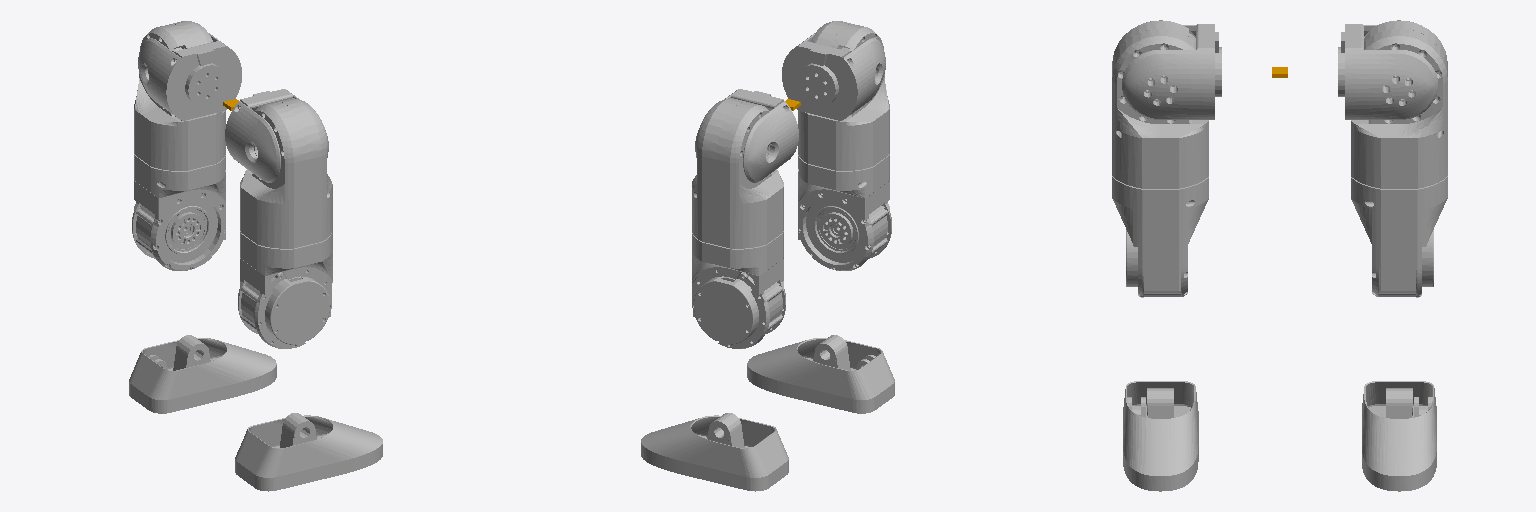
URDF robot description (aegged_dm_description_no_arm):
<?xml version="1.0" encoding="utf-8"?>
<!-- This URDF was automatically created by SolidWorks to URDF Exporter! Originally created by Stephen Brawner (brawner@gmail.com) 
     Commit Version: 1.6.0-4-g7f85cfe  Build Version: 1.6.7995.38578
     For more information, please see http://wiki.ros.org/sw_urdf_exporter -->
<robot
  name="aegged_dm_description_no_arm">
  <!--
    Estimated joint limits (rad) for a 10-DoF biped around the CAD zero pose.
    Not measured on hardware. effort/velocity follow RobStride peak torque / no-load speed.
      1 hip pitch RS06: -60..90 deg, 36 N·m, 50.27 rad/s
      2 hip roll  RS02: -40..40 deg, 17 N·m, 42.94 rad/s
      3 thigh yaw RS02: -40..40 deg, 17 N·m, 42.94 rad/s
      4 knee      RS06: -10..130 deg, 36 N·m, 50.27 rad/s
      5 ankle     RS00: -50..50 deg, 14 N·m, 33.0 rad/s
  -->
  <!--
    Estimated joint limits (CAD zero = assembly pose). Not measured on hardware.
    1 hip pitch: -60..90 deg   RS06  36 N·m / 50.27 rad/s
    2 hip roll:  -40..40 deg   RS02  17 N·m / 42.94 rad/s
    3 thigh yaw: -40..40 deg   RS02  17 N·m / 42.94 rad/s
    4 knee:      -10..130 deg  RS06  36 N·m / 50.27 rad/s
    5 ankle:     -50..50 deg   RS00  14 N·m / 33.00 rad/s
  -->
  
    <gazebo>
    <plugin name="gazebo_ros_control" filename="libdm_bipedal_hw_sim.so">
      <robotNamespace>/</robotNamespace>
      <robotParam>legged_robot_description</robotParam>
      <robotSimType>legged_gazebo/LeggedHWSim</robotSimType>
    </plugin>
  </gazebo>

  <gazebo>
    <plugin filename="libgazebo_ros_p3d.so" name="p3d_base_controller">
      <alwaysOn>true</alwaysOn>
      <updateRate>500.0</updateRate>
      <bodyName>base_link</bodyName>
      <topicName>ground_truth/state</topicName>
      <gaussianNoise>0</gaussianNoise>
      <frameName>world</frameName>
      <xyzOffsets>0 0 0</xyzOffsets>
      <rpyOffsets>0 0 0</rpyOffsets>
    </plugin>
  </gazebo>
  
  
     <joint name="imu_joint" type="fixed">
    <origin rpy="0. 0. 0." xyz="0. 0. 0"/>
    <parent link="base_link"/>
    <child link="imu_link"/>
  </joint>
  <!-- Imu link -->
  <link name="imu_link">
    <inertial>
      <mass value="0.01"/>
      <origin rpy="0 0 0" xyz="0 0 0"/>
      <inertia ixx="0.000001" ixy="0" ixz="0" iyy="0.000001" iyz="0" izz="0.000001"/>
    </inertial>
    <visual>
      <origin rpy="0 0 0" xyz="0 0 0"/>
      <geometry>
        <box size="0.015 0.015 0.004"/>
      </geometry>
    </visual>
    <material name="orange">
      <color rgba="255 108 10 255"/>
    </material>
  </link>
  <gazebo reference="imu_joint">
    <disableFixedJointLumping>true</disableFixedJointLumping>
  </gazebo>
  
  
  <link
    name="base_link">
    <inertial>
      <origin
        xyz="0.000316757833824185 -0.000319826146635846 0.0981033967549462"
        rpy="0 0 0" />
      <mass
        value="7.36183674907851" />
      <inertia
        ixx="0.0157883107915735"
        ixy="-2.98083827942345E-06"
        ixz="1.14045338887804E-05"
        iyy="0.0126788373012413"
        iyz="-9.80285406156158E-07"
        izz="0.0100409818467851" />
    </inertial>
    <visual>
      <origin
        xyz="0 0 0"
        rpy="0 0 0" />
      <geometry>
        <mesh
          filename="meshes/base_link.STL" />
      </geometry>
      <material
        name="">
        <color
          rgba="0.752941176470588 0.752941176470588 0.752941176470588 1" />
      </material>
    </visual>
    <collision>
      <origin
        xyz="0 0 0"
        rpy="0 0 0" />
      <geometry>
        <mesh
          filename="meshes/base_link.STL" />
      </geometry>
    </collision>
  </link>
  <link
    name="leg_r1_Link">
    <inertial>
      <origin
        xyz="0.00237630319013366 0.00124954654221387 0.0291449496120327"
        rpy="0 0 0" />
      <mass
        value="0.123238922208533" />
      <inertia
        ixx="0.000105110680384139"
        ixy="2.77696457337969E-06"
        ixz="-2.12279851365142E-05"
        iyy="9.41352116072342E-05"
        iyz="1.72700632635425E-06"
        izz="7.35012664019771E-05" />
    </inertial>
    <visual>
      <origin
        xyz="0 0 0"
        rpy="0 0 0" />
      <geometry>
        <mesh
          filename="meshes/leg_r1_Link.STL" />
      </geometry>
      <material
        name="">
        <color
          rgba="0.752941176470588 0.752941176470588 0.752941176470588 1" />
      </material>
    </visual>
    <collision>
      <origin
        xyz="0 0 0"
        rpy="0 0 0" />
      <geometry>
        <mesh
          filename="meshes/leg_r1_Link.STL" />
      </geometry>
    </collision>
  </link>
  <joint
    name="leg_r1_joint"
    type="revolute">
    <origin
      xyz="0 -0.0545 0"
      rpy="1.5708 0 0" />
    <parent
      link="base_link" />
    <child
      link="leg_r1_Link" />
    <axis
      xyz="0 0 1" />
    <limit
      lower="-1.0472"
      upper="1.5708"
      effort="36"
      velocity="50.27" />
  </joint>
  <link
    name="leg_r2_Link">
    <inertial>
      <origin
        xyz="-0.000889379627012674 -0.0354222617148699 0.000564352182623655"
        rpy="0 0 0" />
      <mass
        value="0.968265313505045" />
      <inertia
        ixx="0.000834772586404436"
        ixy="1.03373996480554E-05"
        ixz="5.32572866576297E-06"
        iyy="0.000812444617802051"
        iyz="-1.52135450619641E-05"
        izz="0.00105640467247241" />
    </inertial>
    <visual>
      <origin
        xyz="0 0 0"
        rpy="0 0 0" />
      <geometry>
        <mesh
          filename="meshes/leg_r2_Link.STL" />
      </geometry>
      <material
        name="">
        <color
          rgba="0.752941176470588 0.752941176470588 0.752941176470588 1" />
      </material>
    </visual>
    <collision>
      <origin
        xyz="0 0 0"
        rpy="0 0 0" />
      <geometry>
        <mesh
          filename="meshes/leg_r2_Link.STL" />
      </geometry>
    </collision>
  </link>
  <joint
    name="leg_r2_joint"
    type="revolute">
    <origin
      xyz="0 0 0.0525"
      rpy="0 1.5708 0" />
    <parent
      link="leg_r1_Link" />
    <child
      link="leg_r2_Link" />
    <axis
      xyz="0 0 1" />
    <limit
      lower="-0.6981"
      upper="0.6981"
      effort="17"
      velocity="42.94" />
  </joint>
  <link
    name="leg_r3_Link">
    <inertial>
      <origin
        xyz="-0.000923971606770746 0.00137453913075919 0.0706011502942461"
        rpy="0 0 0" />
      <mass
        value="0.739749607173614" />
      <inertia
        ixx="0.000601475689998463"
        ixy="1.97426296938061E-06"
        ixz="-1.13681692217029E-05"
        iyy="0.000830640772869465"
        iyz="9.55163300554654E-06"
        izz="0.000595970916419633" />
    </inertial>
    <visual>
      <origin
        xyz="0 0 0"
        rpy="0 0 0" />
      <geometry>
        <mesh
          filename="meshes/leg_r3_Link.STL" />
      </geometry>
      <material
        name="">
        <color
          rgba="0.752941176470588 0.752941176470588 0.752941176470588 1" />
      </material>
    </visual>
    <collision>
      <origin
        xyz="0 0 0"
        rpy="0 0 0" />
      <geometry>
        <mesh
          filename="meshes/leg_r3_Link.STL" />
      </geometry>
    </collision>
  </link>
  <joint
    name="leg_r3_joint"
    type="revolute">
    <origin
      xyz="0 -0.095 -0.00025"
      rpy="1.5708 -1.5708 0" />
    <parent
      link="leg_r2_Link" />
    <child
      link="leg_r3_Link" />
    <axis
      xyz="0 0 -1" />
    <limit
      lower="-0.6981"
      upper="0.6981"
      effort="17"
      velocity="42.94" />
  </joint>
  <link
    name="leg_r4_Link">
    <inertial>
      <origin
        xyz="0.0107535919496253 -0.0732310518774997 0.00447385756874623"
        rpy="0 0 0" />
      <mass
        value="0.625401970935785" />
      <inertia
        ixx="0.000964865976611379"
        ixy="0.000102514056663673"
        ixz="-3.88394763637417E-06"
        iyy="0.000392627635809103"
        iyz="-9.97200294292721E-06"
        izz="0.00105101828726014" />
    </inertial>
    <visual>
      <origin
        xyz="0 0 0"
        rpy="0 0 0" />
      <geometry>
        <mesh
          filename="meshes/leg_r4_Link.STL" />
      </geometry>
      <material
        name="">
        <color
          rgba="0.752941176470588 0.752941176470588 0.752941176470588 1" />
      </material>
    </visual>
    <collision>
      <origin
        xyz="0 0 0"
        rpy="0 0 0" />
      <geometry>
        <mesh
          filename="meshes/leg_r4_Link.STL" />
      </geometry>
    </collision>
  </link>
  <joint
    name="leg_r4_joint"
    type="revolute">
    <origin
      xyz="-0.0015 0 0.08"
      rpy="-1.5708 0 0" />
    <parent
      link="leg_r3_Link" />
    <child
      link="leg_r4_Link" />
    <!-- 2026-09-16: flipped from "0 0 1" so that, expressed in base_link, both knees
         rotate about +Y and positive angle = knee flexion on both legs (matches the
         -10..130 deg limit and leg_l4_joint). Verify the sign against hardware before deployment. -->
    <axis
      xyz="0 0 -1" />
    <limit
      lower="-0.1745"
      upper="2.2689"
      effort="36"
      velocity="50.27" />
  </joint>
  <link
    name="leg_r5_Link">
    <inertial>
      <origin
        xyz="0.00923781619289871 -0.0336094599359637 0.214440683678036"
        rpy="0 0 0" />
      <mass
        value="0.201061752156751" />
      <inertia
        ixx="8.97216912220056E-05"
        ixy="7.03950757429176E-06"
        ixz="3.34011128285607E-06"
        iyy="0.000369809253991156"
        iyz="-4.74547991215517E-07"
        izz="0.000330483527394454" />
    </inertial>
    <visual>
      <origin
        xyz="0 0 0"
        rpy="0 0 0" />
      <geometry>
        <mesh
          filename="meshes/leg_r5_Link.STL" />
      </geometry>
      <material
        name="">
        <color
          rgba="0.752941176470588 0.752941176470588 0.752941176470588 1" />
      </material>
    </visual>
    <collision>
      <origin
        xyz="0 0 0"
        rpy="0 0 0" />
      <geometry>
        <mesh
          filename="meshes/leg_r5_Link.STL" />
      </geometry>
    </collision>
    <!-- 2026-09-16: flat sole. The CAD sole is rockered (heel/toe rise 4-8 mm), so a joint-PD robot rolls
         over like a rocking chair. This box covers the part of the sole within 2 mm of its lowest point
         (x in [-0.018, 0.077] m ahead of the ankle in base frame, full width) with its bottom face flush
         with the mesh's lowest vertex. -->
    <collision>
      <origin
        xyz="0.0148 -0.0399 0.2139"
        rpy="0 0 0" />
      <geometry>
        <box size="0.0953 0.0200 0.0678" />
      </geometry>
    </collision>
  </link>
  <joint
    name="leg_r5_joint"
    type="revolute">
    <origin
      xyz="0.016229 -0.14477 -0.214"
      rpy="0 0 0" />
    <parent
      link="leg_r4_Link" />
    <child
      link="leg_r5_Link" />
    <axis
      xyz="0 0 -1" />
    <limit
      lower="-0.8727"
      upper="0.8727"
      effort="14"
      velocity="33.0" />
  </joint>
  <link
    name="leg_l1_Link">
    <inertial>
      <origin
        xyz="-0.00347400579153628 -0.00129447494975775 -0.0283223443700973"
        rpy="0 0 0" />
      <mass
        value="0.119056074684946" />
      <inertia
        ixx="0.000104043067842861"
        ixy="2.77599953912958E-06"
        ixz="-2.122534375642E-05"
        iyy="9.35696589425461E-05"
        iyz="1.72277908202673E-06"
        izz="7.29641941423339E-05" />
    </inertial>
    <visual>
      <origin
        xyz="0 0 0"
        rpy="0 0 0" />
      <geometry>
        <mesh
          filename="meshes/leg_l1_Link.STL" />
      </geometry>
      <material
        name="">
        <color
          rgba="0.752941176470588 0.752941176470588 0.752941176470588 1" />
      </material>
    </visual>
    <collision>
      <origin
        xyz="0 0 0"
        rpy="0 0 0" />
      <geometry>
        <mesh
          filename="meshes/leg_l1_Link.STL" />
      </geometry>
    </collision>
  </link>
  <joint
    name="leg_l1_joint"
    type="revolute">
    <origin
      xyz="0 0.0545 0"
      rpy="-1.5708 0 3.1416" />
    <parent
      link="base_link" />
    <child
      link="leg_l1_Link" />
    <axis
      xyz="0 0 1" />
    <limit
      lower="-1.0472"
      upper="1.5708"
      effort="36"
      velocity="50.27" />
  </joint>
  <link
    name="leg_l2_Link">
    <inertial>
      <origin
        xyz="0.000889333366113368 -0.0359701727595515 1.64793336597484E-05"
        rpy="0 0 0" />
      <mass
        value="0.96826421259172" />
      <inertia
        ixx="0.000834771343577783"
        ixy="-3.75889232778148E-06"
        ixz="1.25329545051427E-06"
        iyy="0.000812444563120065"
        iyz="-1.52130999106612E-05"
        izz="0.00105640277540061" />
    </inertial>
    <visual>
      <origin
        xyz="0 0 0"
        rpy="0 0 0" />
      <geometry>
        <mesh
          filename="meshes/leg_l2_Link.STL" />
      </geometry>
      <material
        name="">
        <color
          rgba="0.752941176470588 0.752941176470588 0.752941176470588 1" />
      </material>
    </visual>
    <collision>
      <origin
        xyz="0 0 0"
        rpy="0 0 0" />
      <geometry>
        <mesh
          filename="meshes/leg_l2_Link.STL" />
      </geometry>
    </collision>
  </link>
  <joint
    name="leg_l2_joint"
    type="revolute">
    <origin
      xyz="0 0 -0.0525"
      rpy="3.1416 1.5708 0" />
    <parent
      link="leg_l1_Link" />
    <child
      link="leg_l2_Link" />
    <axis
      xyz="0 0 1" />
    <limit
      lower="-0.6981"
      upper="0.6981"
      effort="17"
      velocity="42.94" />
  </joint>
  <link
    name="leg_l3_Link">
    <inertial>
      <origin
        xyz="-0.000924060586160295 -0.00137439459310529 0.0706062495672036"
        rpy="0 0 0" />
      <mass
        value="0.739750439680239" />
      <inertia
        ixx="0.000601475829575746"
        ixy="-1.9740604179719E-06"
        ixz="-1.14542770352697E-05"
        iyy="0.000830640091303476"
        iyz="-9.52454114845396E-06"
        izz="0.000595972142081302" />
    </inertial>
    <visual>
      <origin
        xyz="0 0 0"
        rpy="0 0 0" />
      <geometry>
        <mesh
          filename="meshes/leg_l3_Link.STL" />
      </geometry>
      <material
        name="">
        <color
          rgba="0.752941176470588 0.752941176470588 0.752941176470588 1" />
      </material>
    </visual>
    <collision>
      <origin
        xyz="0 0 0"
        rpy="0 0 0" />
      <geometry>
        <mesh
          filename="meshes/leg_l3_Link.STL" />
      </geometry>
    </collision>
  </link>
  <joint
    name="leg_l3_joint"
    type="revolute">
    <origin
      xyz="0 -0.095 -0.00025"
      rpy="1.5708 -1.5708 0" />
    <parent
      link="leg_l2_Link" />
    <child
      link="leg_l3_Link" />
    <axis
      xyz="0 0 -1" />
    <limit
      lower="-0.6981"
      upper="0.6981"
      effort="17"
      velocity="42.94" />
  </joint>
  <link
    name="leg_l4_Link">
    <inertial>
      <origin
        xyz="0.0107819191492311 -0.0732205758742925 -0.218471141467568"
        rpy="0 0 0" />
      <mass
        value="0.625136311314154" />
      <inertia
        ixx="0.000964556723569804"
        ixy="0.00010279846519889"
        ixz="4.09820022920461E-06"
        iyy="0.000392654719220275"
        iyz="1.00481985377016E-05"
        izz="0.00105079587952676" />
    </inertial>
    <visual>
      <origin
        xyz="0 0 0"
        rpy="0 0 0" />
      <geometry>
        <mesh
          filename="meshes/leg_l4_Link.STL" />
      </geometry>
      <material
        name="">
        <color
          rgba="0.752941176470588 0.752941176470588 0.752941176470588 1" />
      </material>
    </visual>
    <collision>
      <origin
        xyz="0 0 0"
        rpy="0 0 0" />
      <geometry>
        <mesh
          filename="meshes/leg_l4_Link.STL" />
      </geometry>
    </collision>
  </link>
  <joint
    name="leg_l4_joint"
    type="revolute">
    <origin
      xyz="-0.0015 0.214 0.08"
      rpy="-1.5708 0 0" />
    <parent
      link="leg_l3_Link" />
    <child
      link="leg_l4_Link" />
    <axis
      xyz="0 0 -1" />
    <limit
      lower="-0.1745"
      upper="2.2689"
      effort="36"
      velocity="50.27" />
  </joint>
  <link
    name="leg_l5_Link">
    <inertial>
      <origin
        xyz="0.00918672928898246 -0.0336548160404737 -0.21446182339126"
        rpy="0 0 0" />
      <mass
        value="0.199132400942758" />
      <inertia
        ixx="8.89838213852569E-05"
        ixy="6.93443144569698E-06"
        ixz="-3.2841327757358E-06"
        iyy="0.000366930790289761"
        iyz="4.62242786228882E-07"
        izz="0.000327818451846155" />
    </inertial>
    <visual>
      <origin
        xyz="0 0 0"
        rpy="0 0 0" />
      <geometry>
        <mesh
          filename="meshes/leg_l5_Link.STL" />
      </geometry>
      <material
        name="">
        <color
          rgba="0.752941176470588 0.752941176470588 0.752941176470588 1" />
      </material>
    </visual>
    <collision>
      <origin
        xyz="0 0 0"
        rpy="0 0 0" />
      <geometry>
        <mesh
          filename="meshes/leg_l5_Link.STL" />
      </geometry>
    </collision>
    <!-- 2026-09-16: flat sole box, see leg_r5_Link. -->
    <collision>
      <origin
        xyz="0.0148 -0.0399 -0.2141"
        rpy="0 0 0" />
      <geometry>
        <box size="0.0953 0.0200 0.0678" />
      </geometry>
    </collision>
  </link>
  <joint
    name="leg_l5_joint"
    type="revolute">
    <origin
      xyz="0.016229 -0.14477 0"
      rpy="0 0 0" />
    <parent
      link="leg_l4_Link" />
    <child
      link="leg_l5_Link" />
    <axis
      xyz="0 0 -1" />
    <limit
      lower="-0.8727"
      upper="0.8727"
      effort="14"
      velocity="33.0" />
  </joint>
</robot>

--- Facts derived from the render (not from the file) ---
3 views of the same robot in one strip: view 1: azimuth 30°, elevation 25°; view 2: azimuth 150°, elevation 25°; view 3: azimuth 270°, elevation 25° (orthographic).
Model aegged_dm_description_no_arm with 12 links and 11 joints (10 revolute, 1 fixed), rooted at base_link, posed all joints at 0.
Links seen in each view (by area): view 1: leg_r2_Link, leg_r3_Link, leg_l3_Link, leg_l5_Link, leg_r5_Link, leg_l2_Link, leg_l1_Link, leg_r1_Link; view 2: leg_l2_Link, leg_r3_Link, leg_l3_Link, leg_l5_Link, leg_r5_Link, leg_r2_Link, leg_r1_Link, leg_l1_Link; view 3: leg_l2_Link, leg_r2_Link, leg_r3_Link, leg_l3_Link, leg_r5_Link, leg_l5_Link, leg_r1_Link, leg_l1_Link.
Boxes of the visible links, x1,y1,x2,y2 form: leg_r2_Link: (240, 98, 332, 248); leg_r3_Link: (238, 229, 332, 348); leg_l3_Link: (132, 154, 225, 270); leg_l5_Link: (129, 335, 276, 413); leg_r5_Link: (235, 413, 382, 491); leg_l2_Link: (134, 21, 225, 170); leg_l1_Link: (138, 33, 241, 120); leg_r1_Link: (225, 89, 328, 182); leg_l2_Link: (692, 98, 783, 248); leg_r3_Link: (798, 154, 891, 270); leg_l3_Link: (692, 231, 785, 348); leg_l5_Link: (641, 413, 788, 491); leg_r5_Link: (747, 335, 894, 413); leg_r2_Link: (798, 21, 889, 170); leg_r1_Link: (782, 33, 885, 120); leg_l1_Link: (695, 89, 798, 182); leg_l2_Link: (1351, 20, 1447, 188); leg_r2_Link: (1112, 20, 1208, 188); leg_r3_Link: (1112, 176, 1208, 297); leg_l3_Link: (1351, 176, 1447, 297); leg_r5_Link: (1123, 381, 1198, 491); leg_l5_Link: (1362, 381, 1436, 491); leg_r1_Link: (1122, 24, 1221, 119); leg_l1_Link: (1338, 24, 1437, 119).
Bounding box of the posed robot: 0.1548 × 0.301 × 0.4132 m (x, y, z).
Meshes: 11 distinct files referenced, 8 mesh visuals loaded (8 binary STL); not drawn: 3 (reference not matched to a file when rendering).
